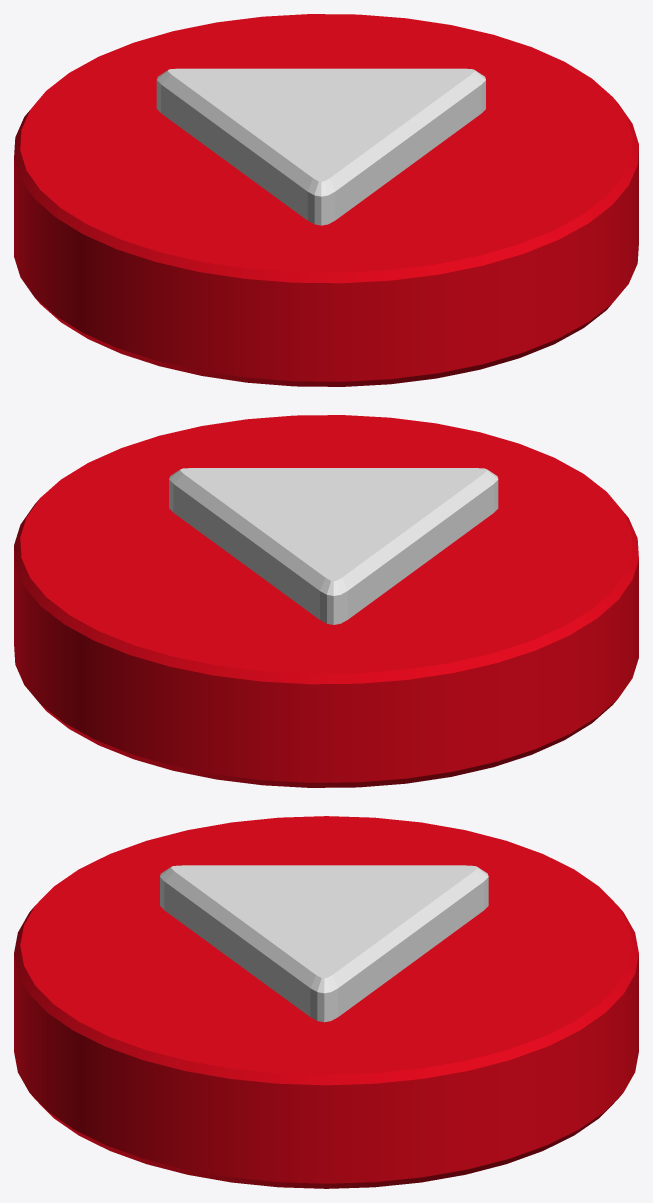
Rendered from red_start_button.fbx.
The picture shows the model from 3 angles, top to bottom: view 1: azimuth 30°, elevation 25°; view 2: azimuth 150°, elevation 25°; view 3: azimuth 270°, elevation 25°; orthographic projection.
Visible parts, largest first — view 1: uploads-files-16957-media-buttons.002; view 2: uploads-files-16957-media-buttons.002; view 3: uploads-files-16957-media-buttons.002.
Boxes of the visible parts, x1,y1,x2,y2 form: uploads-files-16957-media-buttons.002: (14, 14, 638, 386); uploads-files-16957-media-buttons.002: (14, 415, 638, 787); uploads-files-16957-media-buttons.002: (14, 816, 638, 1188).
Size of the model in its own units: 3059 by 824 by 3059.
